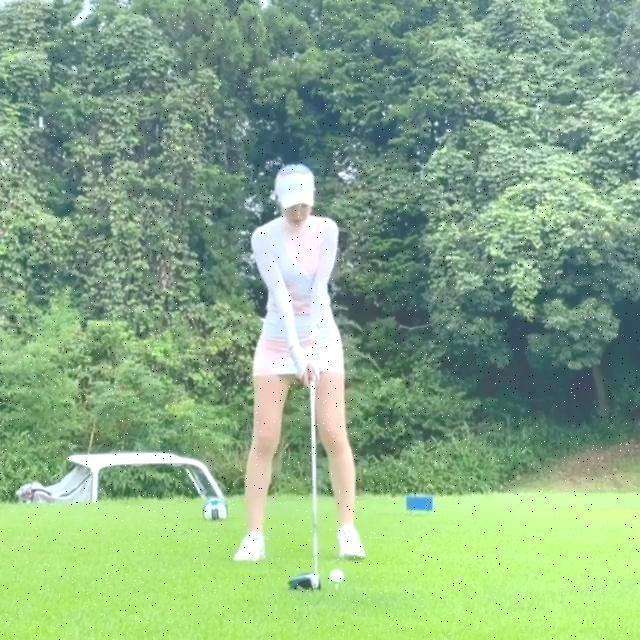ClubHead: (287, 573, 323, 593)
GolfBall: (329, 569, 346, 584)
